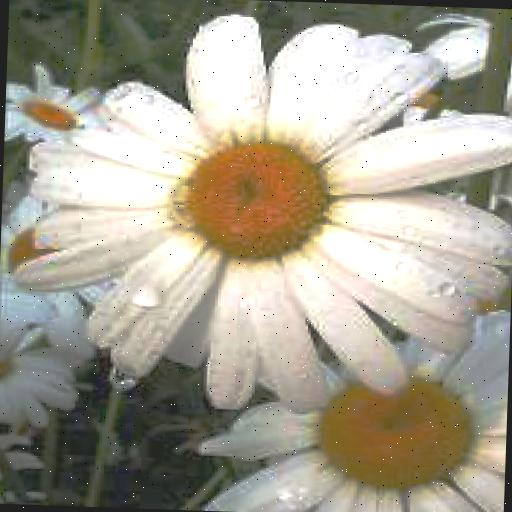daisy: (0, 292, 84, 423), (2, 181, 84, 299), (4, 66, 114, 144)
